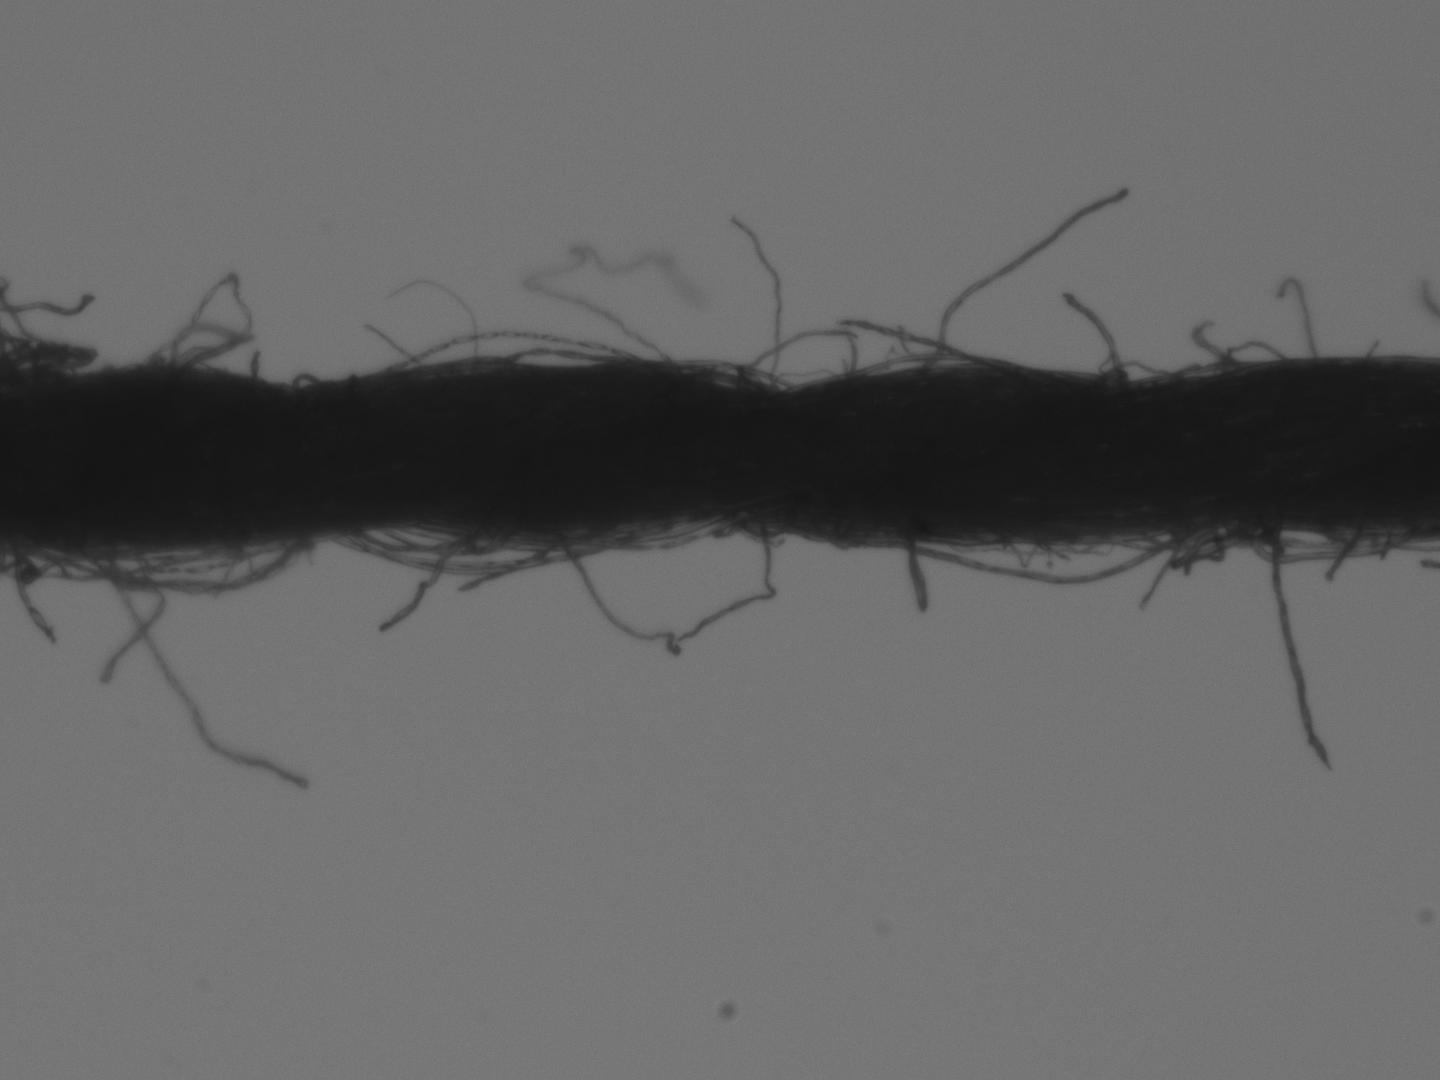loop_fiber: (559, 514, 776, 656), (844, 532, 1170, 585), (94, 537, 304, 598), (379, 332, 627, 376), (143, 275, 255, 370), (23, 541, 225, 580), (1246, 517, 1407, 564), (1152, 336, 1286, 385), (347, 518, 486, 556), (839, 353, 1001, 385), (375, 516, 517, 551), (663, 361, 794, 387), (498, 346, 627, 370), (1092, 360, 1185, 386), (1172, 520, 1223, 566), (286, 368, 323, 387)
protruding_fiber: (100, 545, 302, 790), (925, 188, 1132, 370), (1271, 517, 1331, 771), (378, 524, 480, 632), (730, 213, 786, 383), (1060, 292, 1133, 386), (903, 537, 925, 609)
